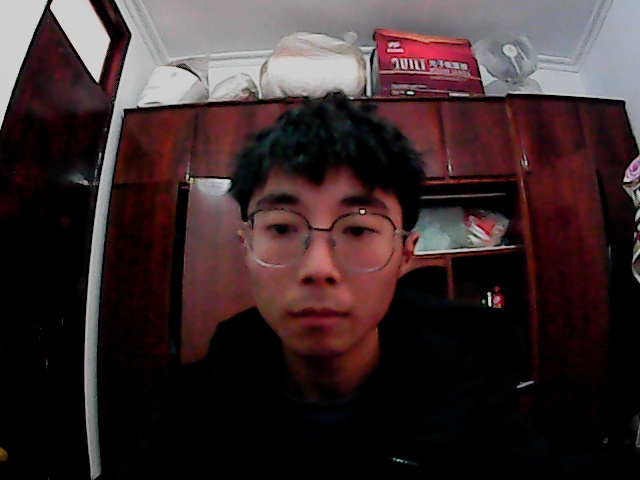face: (224, 92, 418, 361)
